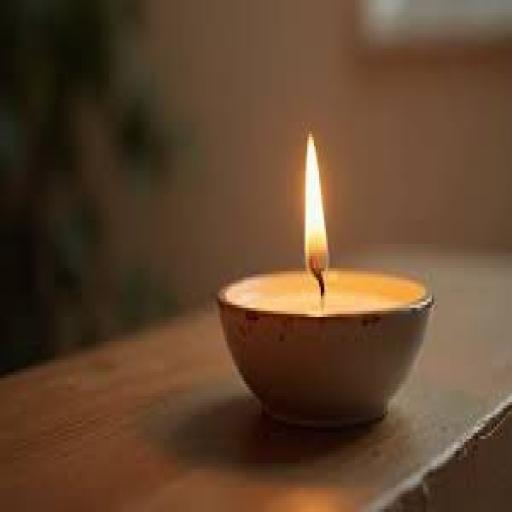fire: (283, 121, 339, 287), (288, 119, 341, 290)
